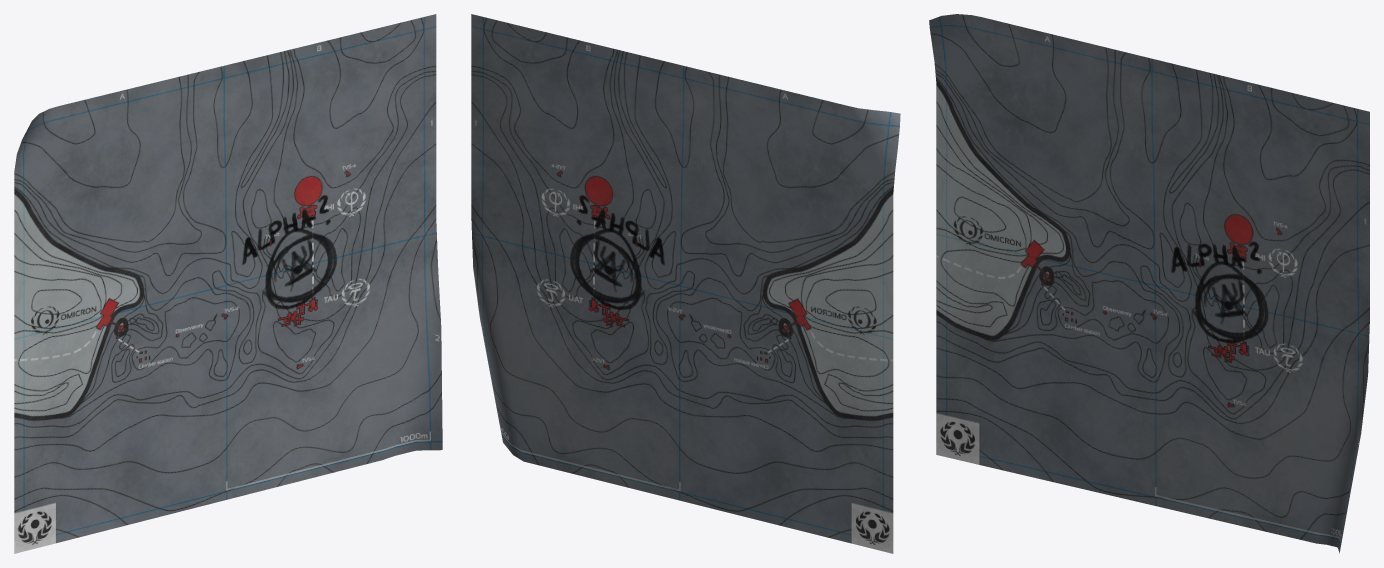
The model's file is map_herber.dae.
3 renders of one model, left to right at view 1: azimuth 30°, elevation 25°; view 2: azimuth 150°, elevation 25°; view 3: azimuth 330°, elevation 25°, orthographic. The views are drawn at different scales.
Parts seen in each view (by area): view 1: map; view 2: map; view 3: map.
Part boxes in pixels (x1=…): map: x1=14, y1=14, x2=442, y2=553; map: x1=471, y1=14, x2=900, y2=553; map: x1=929, y1=14, x2=1369, y2=553.
Size of the model in its own units: 0.3508 by 0.3463 by 0.0272.
